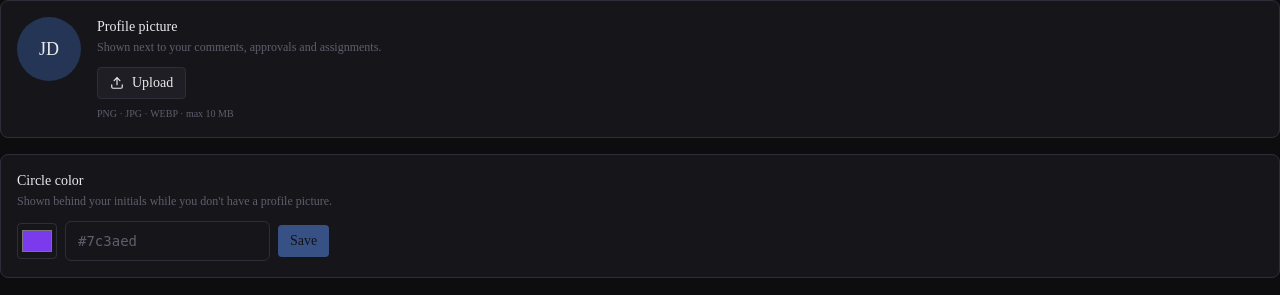
ProfileAvatarEditor › saves a circle color
The width and height of the screenshot is (1280, 295).
Type "#112233" into the field named "Circle color hex" at (168, 241), box [65, 221, 270, 261]
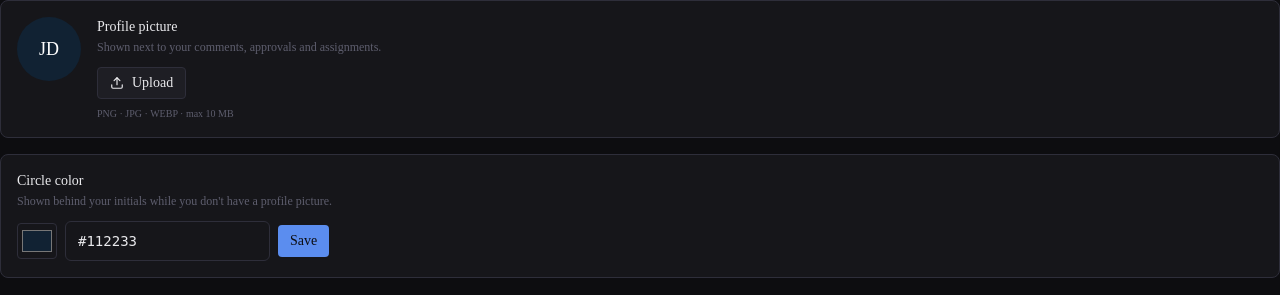
Click the button "Save" at (304, 241), box [278, 225, 329, 257]
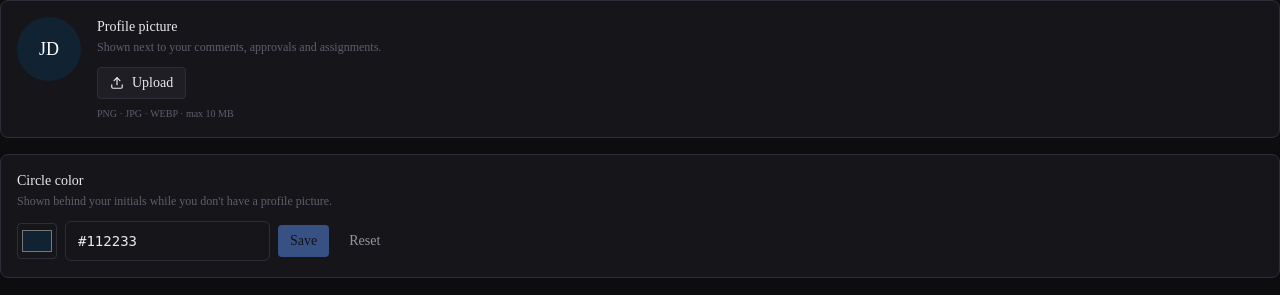
Now the button "Reset" is shown, box [337, 225, 392, 257]
